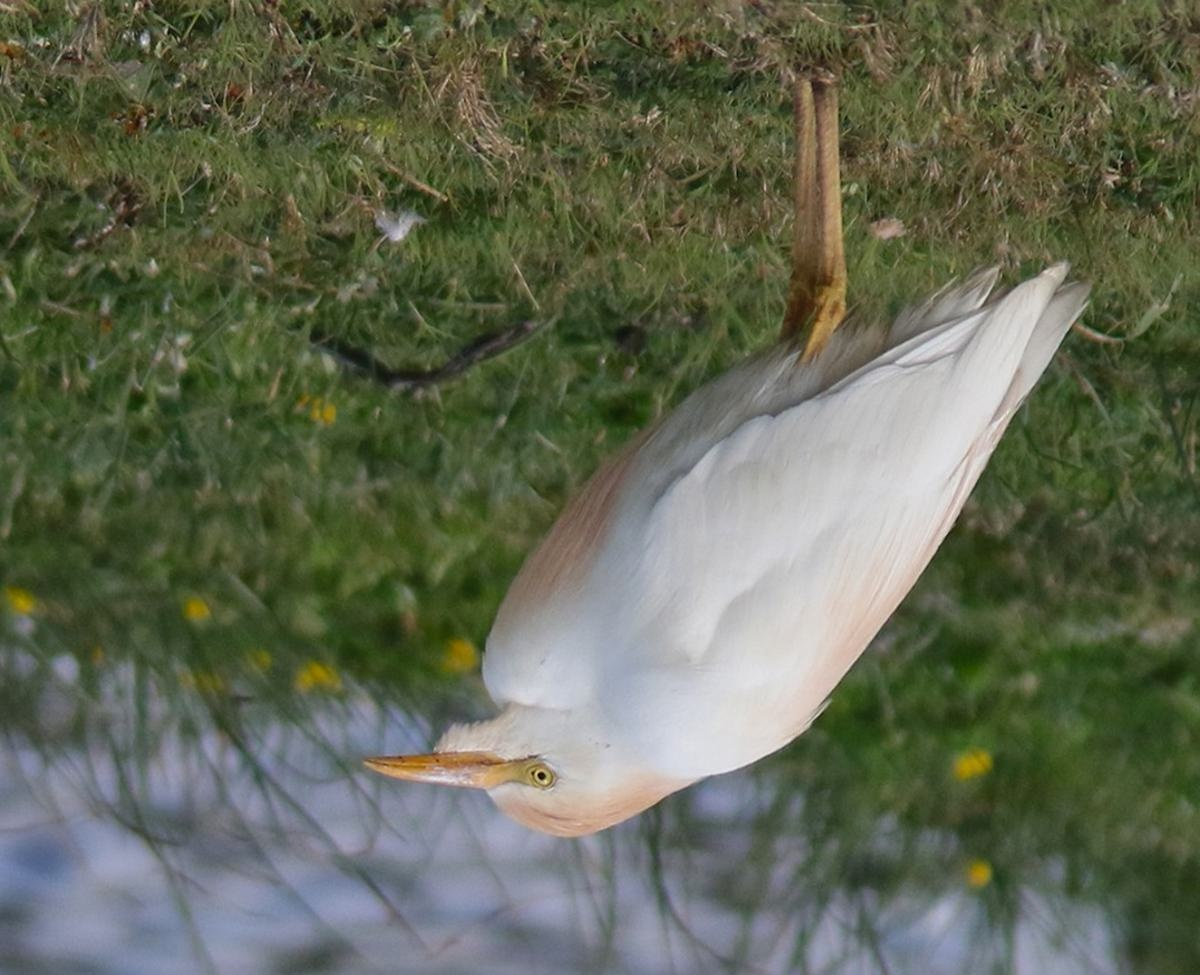egret: (349, 53, 1079, 844)
